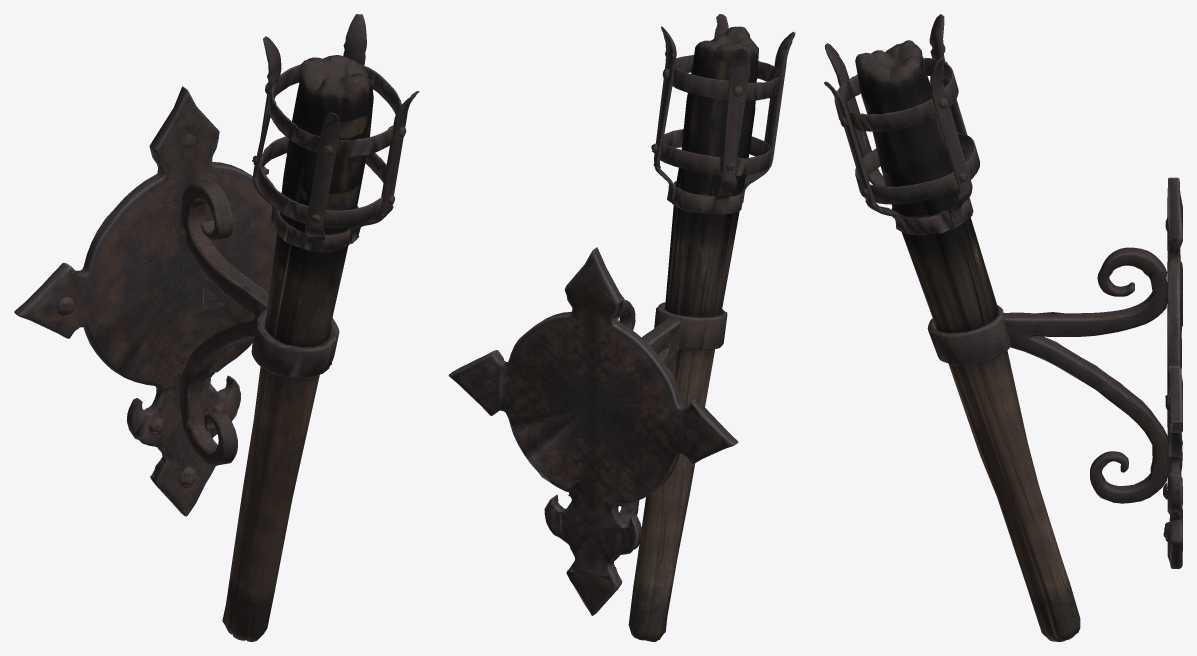
The model's file is Meshy_AI_Rustbound_Torch_Sconce_20261114_texture.fbx.
3 renders of one model, left to right at view 1: azimuth 30°, elevation 25°; view 2: azimuth 150°, elevation 25°; view 3: azimuth 270°, elevation 25°, orthographic. The views are drawn at different scales.
Visible parts, largest first — view 1: Mesh_0; view 2: Mesh_0; view 3: Mesh_0.
Boxes of the visible parts, left/top/right/bottom form: Mesh_0: left=14, top=14, right=419, bottom=641; Mesh_0: left=448, top=14, right=795, bottom=641; Mesh_0: left=824, top=14, right=1182, bottom=641.
Size of the model in its own units: 50.44 by 95.07 by 51.22.
1 material, 1 textured.
